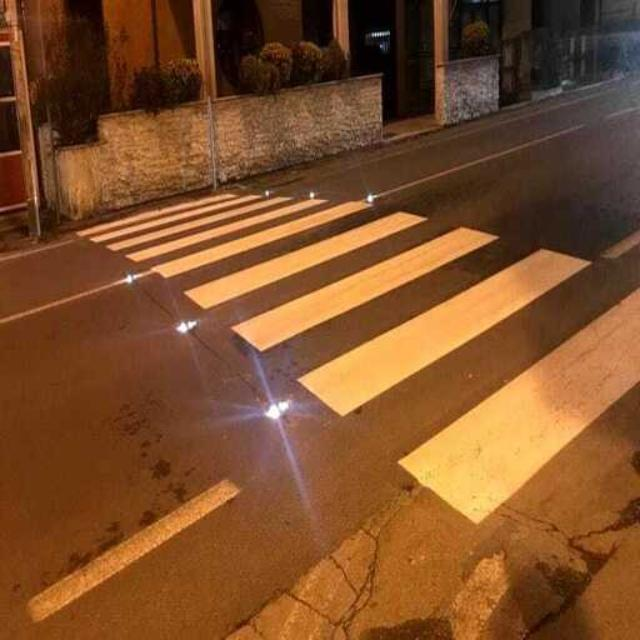sidewalk: (77, 193, 640, 523)
